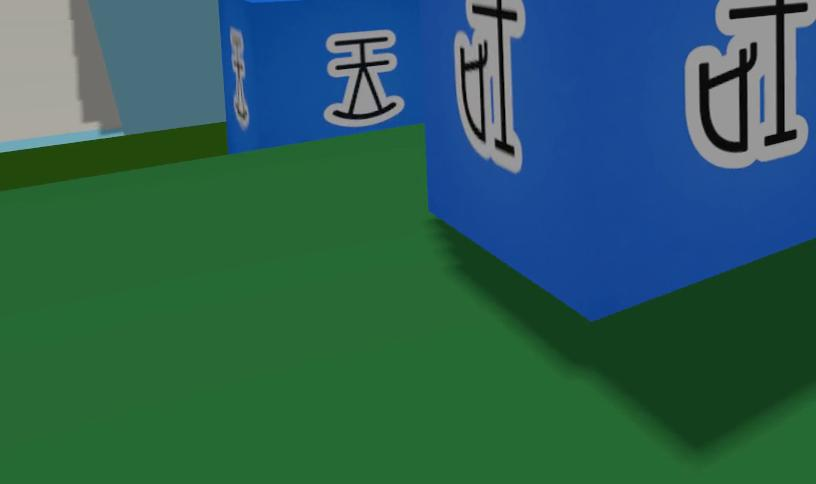KFS_REAL: (418, 0, 816, 319), (220, 0, 420, 152), (687, 0, 816, 168), (454, 0, 525, 172), (325, 31, 404, 126)
